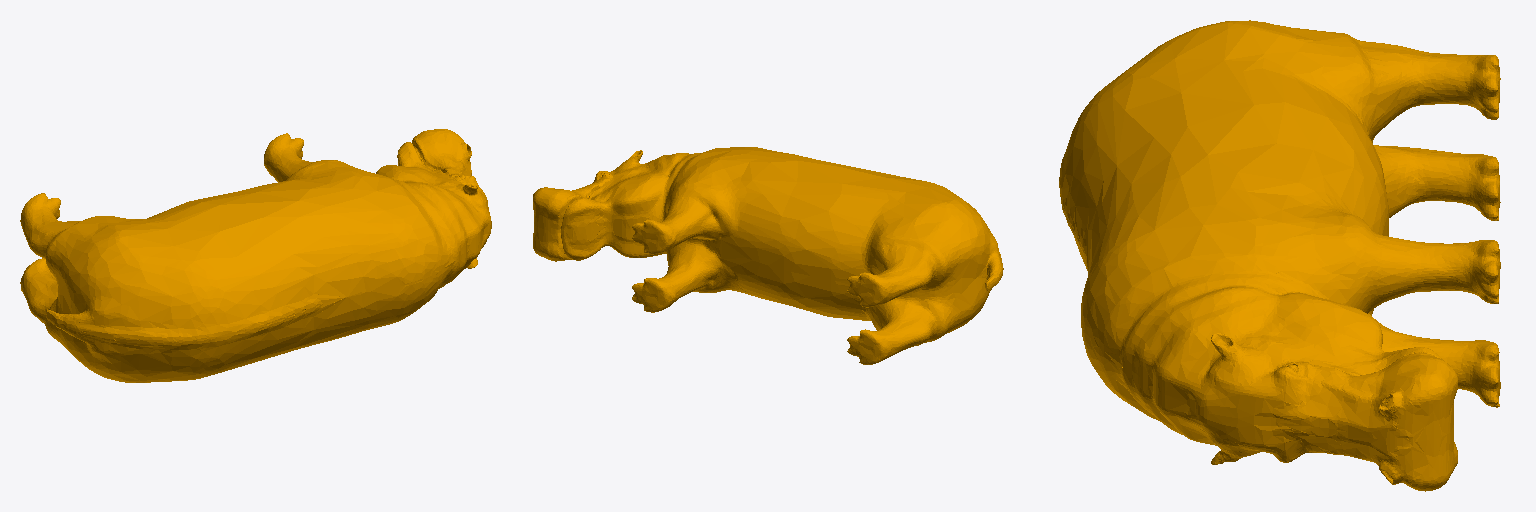
URDF robot description (broom_model):
<robot name="broom_model">
  <link name="broom_body">
    <inertial>
      <mass value="0.1" />
      <origin xyz="0 0 -.25" />
      <inertia  ixx="1.0" ixy="1.0"  ixz="1.0"  iyy="1.0"  iyz="1.0"  izz="1.0" />
    </inertial>
    <visual>
      <!-- visual origin is defined w.r.t. link local coordinate system -->
      <origin xyz="0 0 0" rpy="3.1416 0 0" />
      <geometry>
        <mesh filename="package://meshlab/sample/hippo.stl"/>
      </geometry>
    </visual>
    <collision>
      <!-- collision origin is defined w.r.t. link local coordinate system -->
      <origin xyz="0 0 0" rpy="3.1416 0 0" />
      <geometry>
        <mesh filename="package://meshlab/sample/hippo.stl"/>
      </geometry>
    </collision>
  </link>
  <gazebo reference="broom_body">
    <material>Gazebo/LightWood</material>
    <turnGravityOff>true</turnGravityOff>
  </gazebo>
</robot>

--- Facts derived from the render (not from the file) ---
3 views of the same robot in one strip: view 1: azimuth 30°, elevation 25°; view 2: azimuth 150°, elevation 25°; view 3: azimuth 270°, elevation 25° (orthographic).
Robot: broom_model — 1 links, 0 joints (none); root link broom_body; default pose: all joints at 0.
Visible links, largest first — view 1: broom_body; view 2: broom_body; view 3: broom_body.
Link boxes in pixels (bbox=[...]): broom_body: bbox=[20, 129, 491, 382]; broom_body: bbox=[533, 147, 1003, 364]; broom_body: bbox=[1059, 20, 1500, 491].
Size in the robot's own frame: 51.44 by 26.93 by 15.12 metres.
Meshes: 1 distinct files referenced, 1 mesh visuals loaded (1 binary STL).
